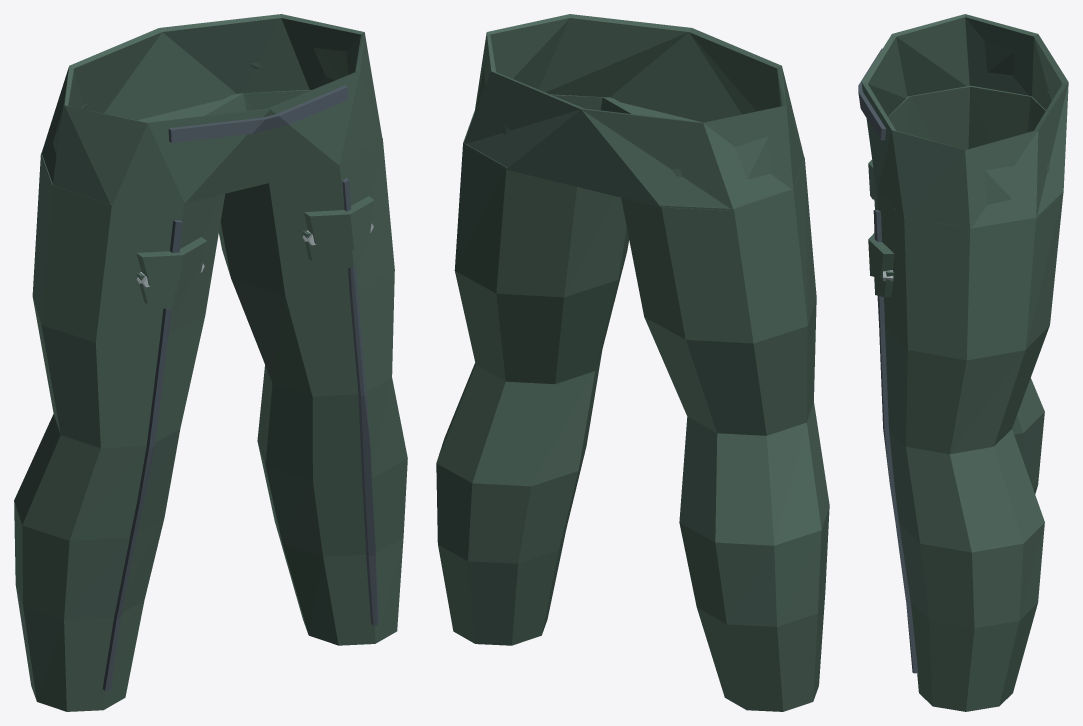
The model's file is studded_legs-male-scaledHide.glb.
The picture shows the model from 3 angles, left to right: view 1: azimuth 30°, elevation 25°; view 2: azimuth 150°, elevation 25°; view 3: azimuth 270°, elevation 25°; orthographic projection. The views are drawn at different scales.
Visible parts, largest first — view 1: studded trouser leg -1, studded trouser leg 1, studded trouser pelvis yoke, Trouser reinforced front seam 1, Trouser reinforced front seam -1, Trouser waist facing, Lapped hide reinforcement studded trouser leg 1 0, Lapped hide reinforcement studded trouser leg -1 0, Lapped hide reinforcement studded trouser leg 1 1, Lapped hide reinforcement studded trouser leg -1 1; view 2: studded trouser leg -1, studded trouser leg 1, studded trouser pelvis yoke; view 3: studded trouser leg 1, studded trouser pelvis yoke, studded trouser leg -1, Trouser reinforced front seam 1, Lapped hide reinforcement studded trouser leg 1 0, Trouser waist facing, Lapped hide reinforcement studded trouser leg 1 1.
Part boxes in pixels (x1,y1,x2,y2): studded trouser leg -1: (14, 153, 224, 711); studded trouser leg 1: (196, 89, 407, 645); studded trouser pelvis yoke: (41, 14, 382, 204); Trouser reinforced front seam 1: (342, 178, 379, 625); Trouser reinforced front seam -1: (102, 220, 182, 690); Trouser waist facing: (168, 85, 348, 142); Lapped hide reinforcement studded trouser leg 1 0: (304, 196, 374, 251); Lapped hide reinforcement studded trouser leg -1 0: (136, 237, 207, 292); Lapped hide reinforcement studded trouser leg 1 1: (303, 219, 372, 268); Lapped hide reinforcement studded trouser leg -1 1: (136, 259, 203, 310); studded trouser leg -1: (621, 157, 829, 711); studded trouser leg 1: (436, 94, 642, 645); studded trouser pelvis yoke: (464, 14, 804, 210); studded trouser leg 1: (877, 191, 1063, 711); studded trouser pelvis yoke: (861, 14, 1068, 228); studded trouser leg -1: (888, 85, 1045, 493); Trouser reinforced front seam 1: (873, 210, 918, 673); Lapped hide reinforcement studded trouser leg 1 0: (868, 233, 894, 278); Trouser waist facing: (858, 48, 886, 140); Lapped hide reinforcement studded trouser leg 1 1: (874, 271, 894, 297).
Size of the model in its own units: 2.39 by 3.57 by 1.24.
